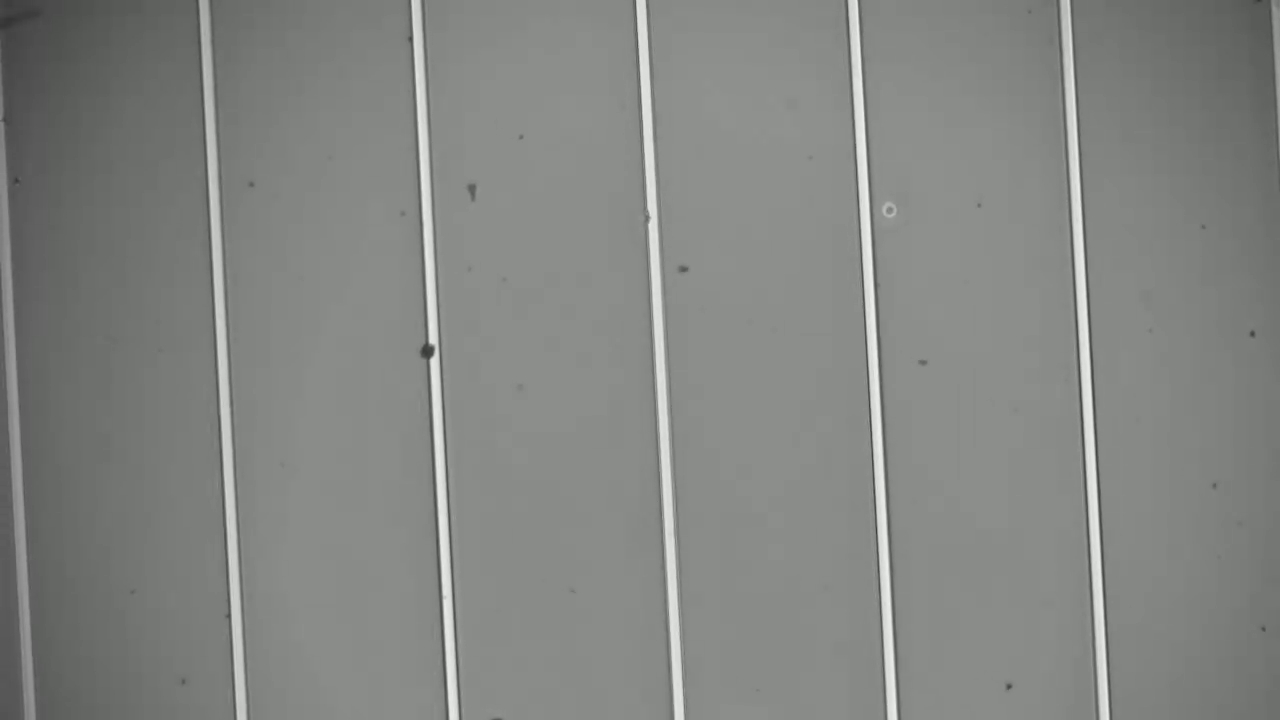stains_enbedded: (411, 334, 451, 364)
